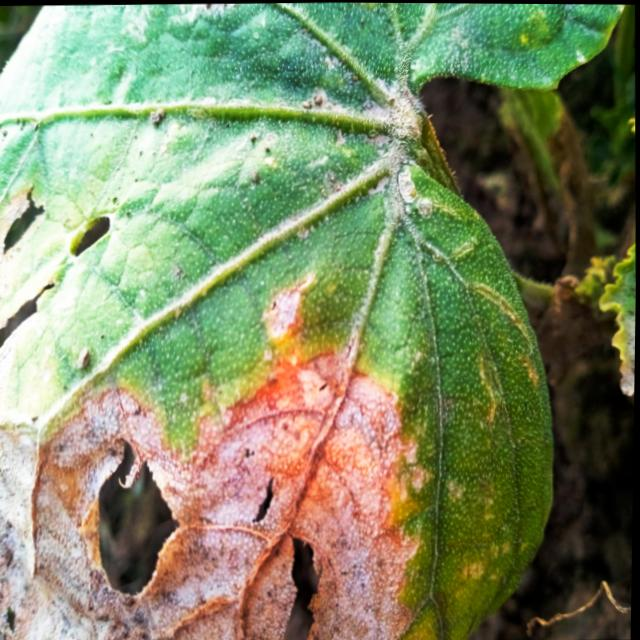Anthracnose: (84, 425, 187, 607), (275, 529, 327, 640), (0, 275, 58, 360), (0, 176, 55, 257), (64, 210, 115, 260), (248, 469, 283, 527)
